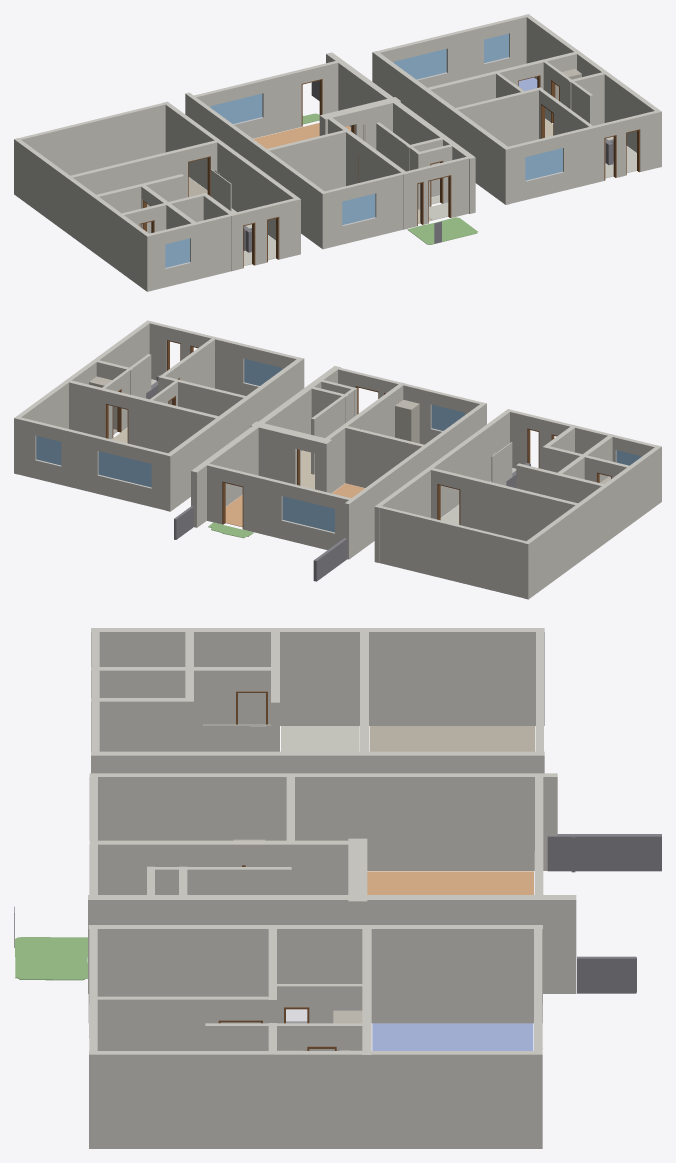
3 views of the same model, one above another, from view 1: azimuth 30°, elevation 25°; view 2: azimuth 150°, elevation 25°; view 3: azimuth 270°, elevation 25° (orthographic). The views are drawn at different scales.
Visible parts, largest first — view 1: walls, window_4, window_2, floor_17_Outdoor, window_0, floor_1_Living_Room, window_5, railings, window_11, window_3; view 2: walls, railings, window_4, window_2, furniture_5_closet, floor_1_Living_Room, window_0, window_3, window_5, floor_8_Entry; view 3: walls, railings, floor_2_Bed_Room, floor_0_Storage, floor_1_Living_Room, floor_17_Outdoor, floor_7_Undefined.
Boxes of the visible parts, x1,y1,x2,y2 form: walls: (14, 14, 661, 291); window_4: (394, 49, 446, 79); window_2: (210, 93, 262, 123); floor_17_Outdoor: (407, 217, 477, 244); window_0: (525, 148, 562, 180); floor_1_Living_Room: (253, 123, 350, 148); window_5: (342, 193, 375, 224); railings: (243, 80, 613, 252); window_11: (165, 238, 189, 267); window_3: (484, 33, 508, 62); walls: (14, 320, 661, 599); railings: (146, 375, 530, 581); window_4: (98, 451, 151, 487); window_2: (282, 496, 334, 532); furniture_5_closet: (395, 400, 419, 443); floor_1_Living_Room: (225, 483, 364, 526); window_0: (244, 359, 281, 385); window_3: (36, 436, 61, 465); window_5: (431, 404, 464, 430); floor_8_Entry: (301, 450, 314, 489); walls: (88, 628, 576, 1148); railings: (14, 834, 661, 993); floor_2_Bed_Room: (372, 1023, 533, 1050); floor_0_Storage: (369, 726, 535, 751); floor_1_Living_Room: (367, 871, 533, 894); floor_17_Outdoor: (15, 937, 87, 980); floor_7_Undefined: (281, 726, 359, 751).
Bounding box in the file's own units: 26.28 × 2.72 × 16.86.
